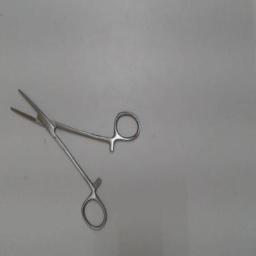Mayo Needle Holder: (6, 80, 144, 234)
